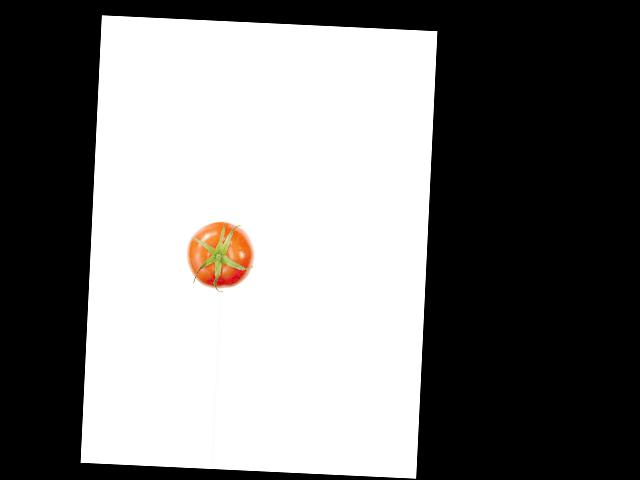tomato: (185, 219, 255, 289)
